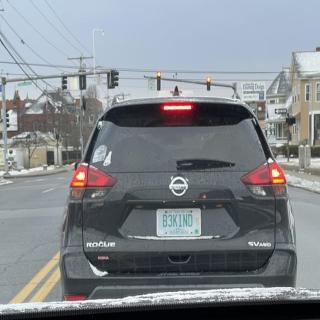license: (157, 209, 203, 238)
